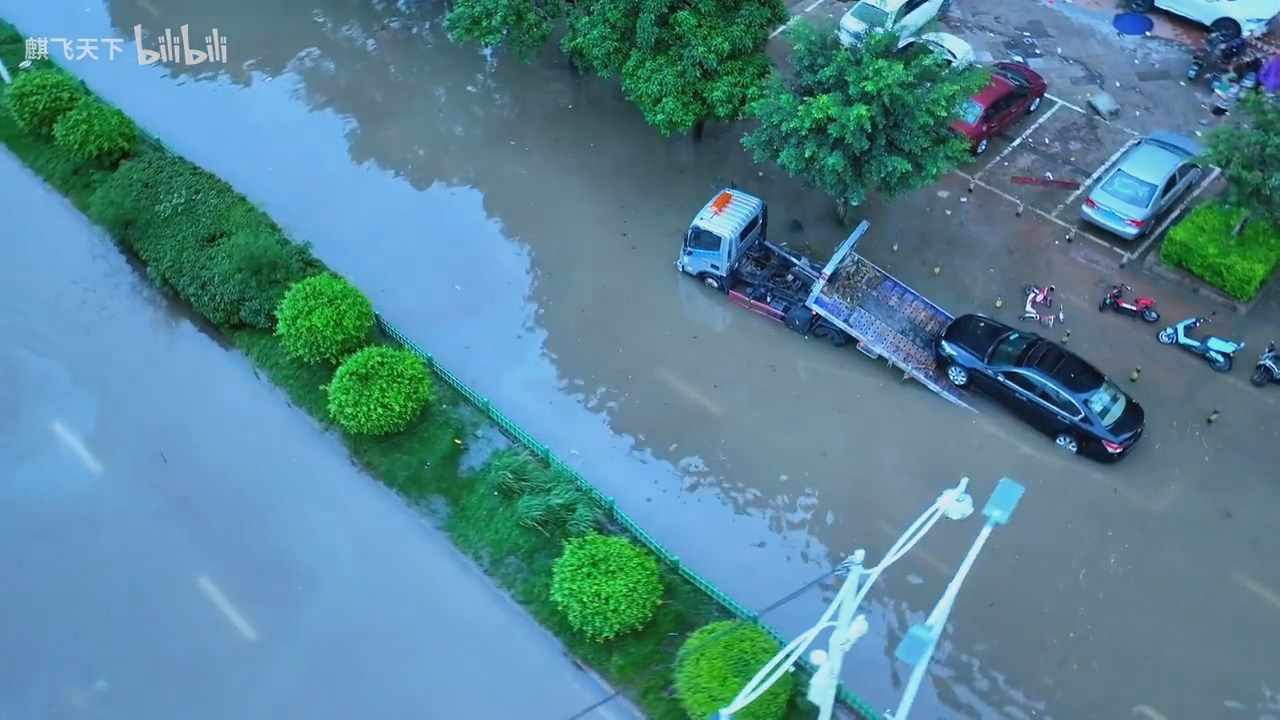puddle: (475, 142, 1232, 625), (19, 376, 409, 720)
